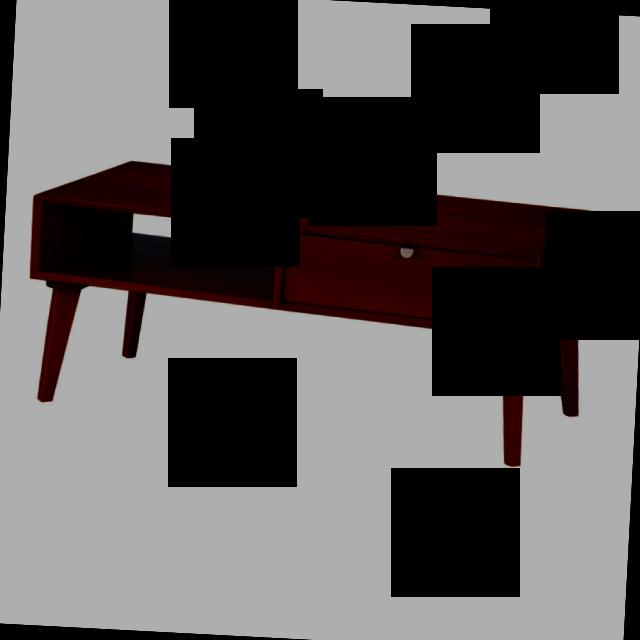vintage shelf: (28, 152, 613, 467)
